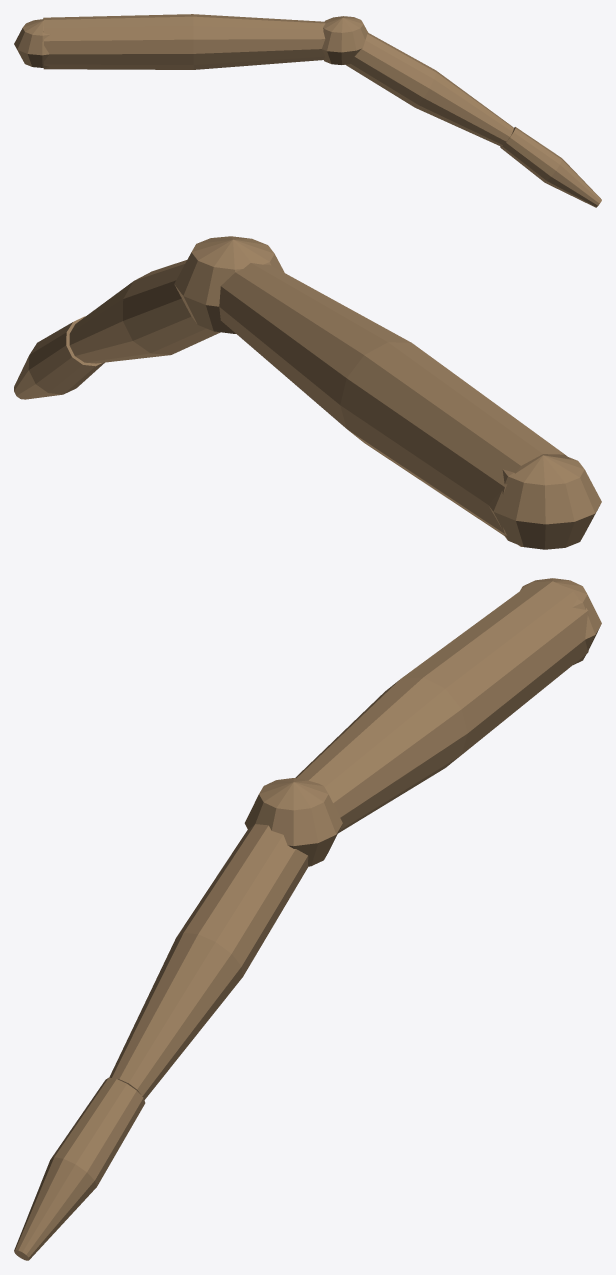
Rendered from scorpion_leg_r4_original_01.glb.
3 views of the same model, one above another, from view 1: azimuth 30°, elevation 25°; view 2: azimuth 150°, elevation 25°; view 3: azimuth 270°, elevation 25° (orthographic). The views are drawn at different scales.
Visible parts, largest first — view 1: S0_RLeg4Segment1, S0_RLeg4Segment2, S0_RLeg4Segment3, S0_RLeg4Joint1, S0_RLeg4Joint0; view 2: S0_RLeg4Segment1, S0_RLeg4Segment2, S0_RLeg4Joint0, S0_RLeg4Joint1, S0_RLeg4Segment3; view 3: S0_RLeg4Segment1, S0_RLeg4Segment2, S0_RLeg4Segment3, S0_RLeg4Joint1, S0_RLeg4Joint0.
Boxes of the visible parts, x1,y1,x2,y2 form: S0_RLeg4Segment1: (43,14,325,69); S0_RLeg4Segment2: (345,33,513,146); S0_RLeg4Segment3: (500,127,601,207); S0_RLeg4Joint1: (322,16,368,64); S0_RLeg4Joint0: (14,19,49,67); S0_RLeg4Segment1: (219,263,570,546); S0_RLeg4Segment2: (69,260,220,363); S0_RLeg4Joint0: (488,455,601,549); S0_RLeg4Joint1: (174,236,284,333); S0_RLeg4Segment3: (14,316,104,399); S0_RLeg4Segment1: (295,581,589,833); S0_RLeg4Segment2: (109,824,308,1099); S0_RLeg4Segment3: (14,1077,145,1260); S0_RLeg4Joint1: (244,778,342,866); S0_RLeg4Joint0: (520,578,601,664).
Size of the model in its own units: 0.7024 by 0.2777 by 0.454.
